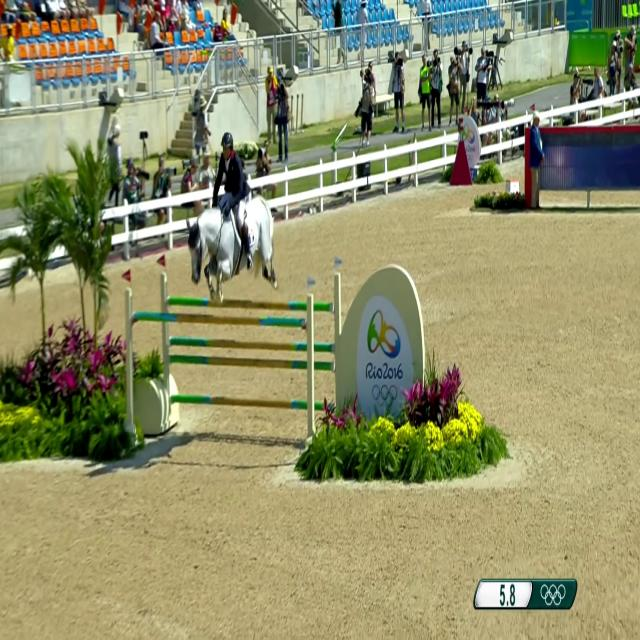Horse Jumping: (182, 117, 284, 321)
